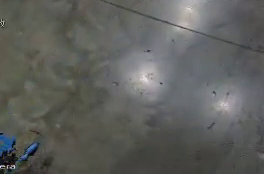robot dog: (1, 128, 42, 173)
